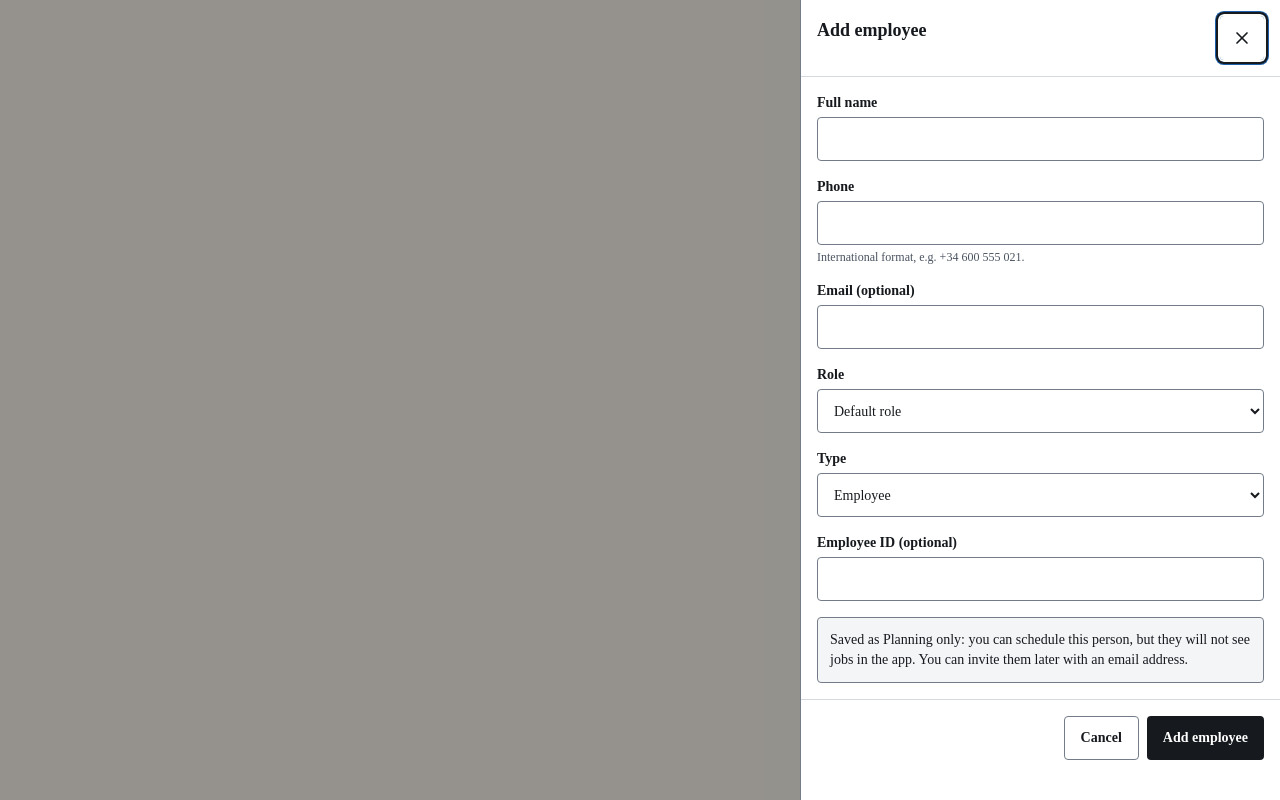
Scenario: Add / Edit employee drawer: every API field error lands on its field (c769b0c5) › a phone the API would refuse is refused before any request
In the field labelled "Full name": [1040, 139] box [817,117,1264,161], type "Ana Pop"
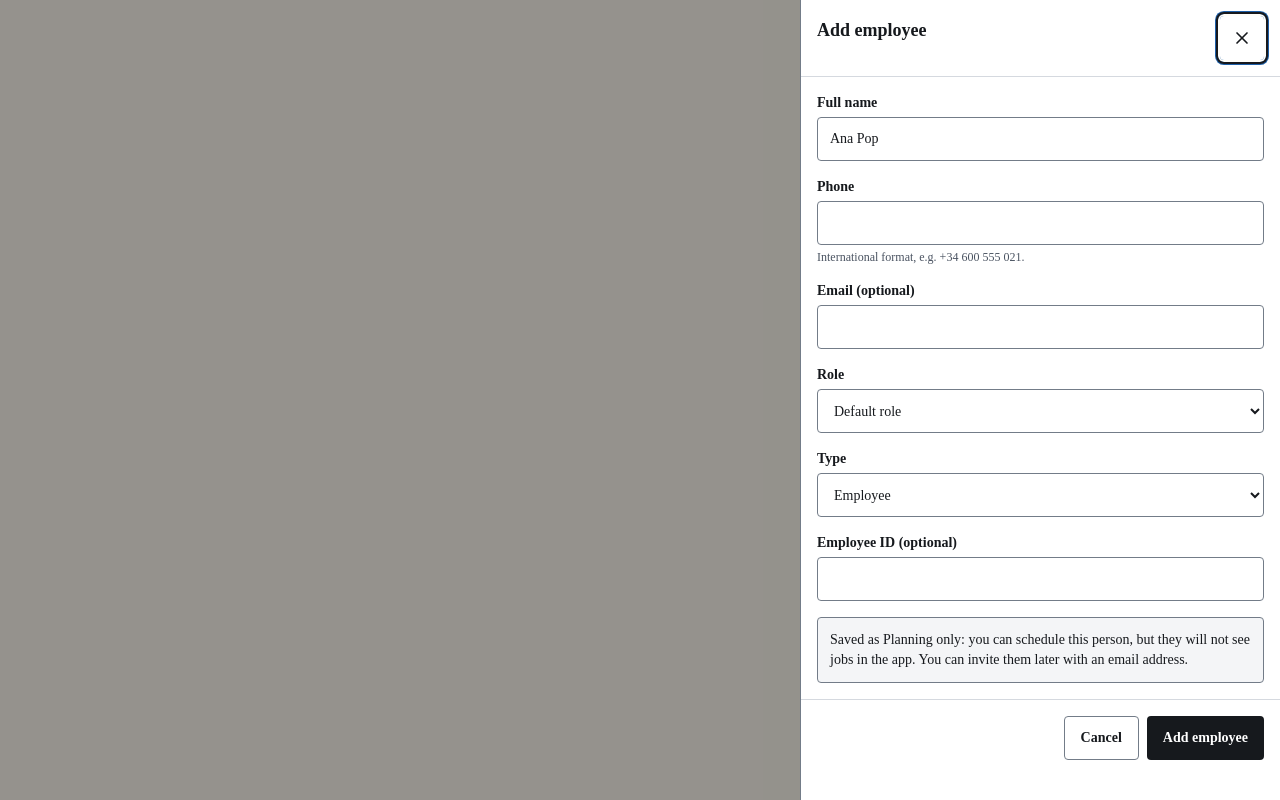
In the field labelled "Phone": [1040, 223] box [817,201,1264,245], type "600 555 021"
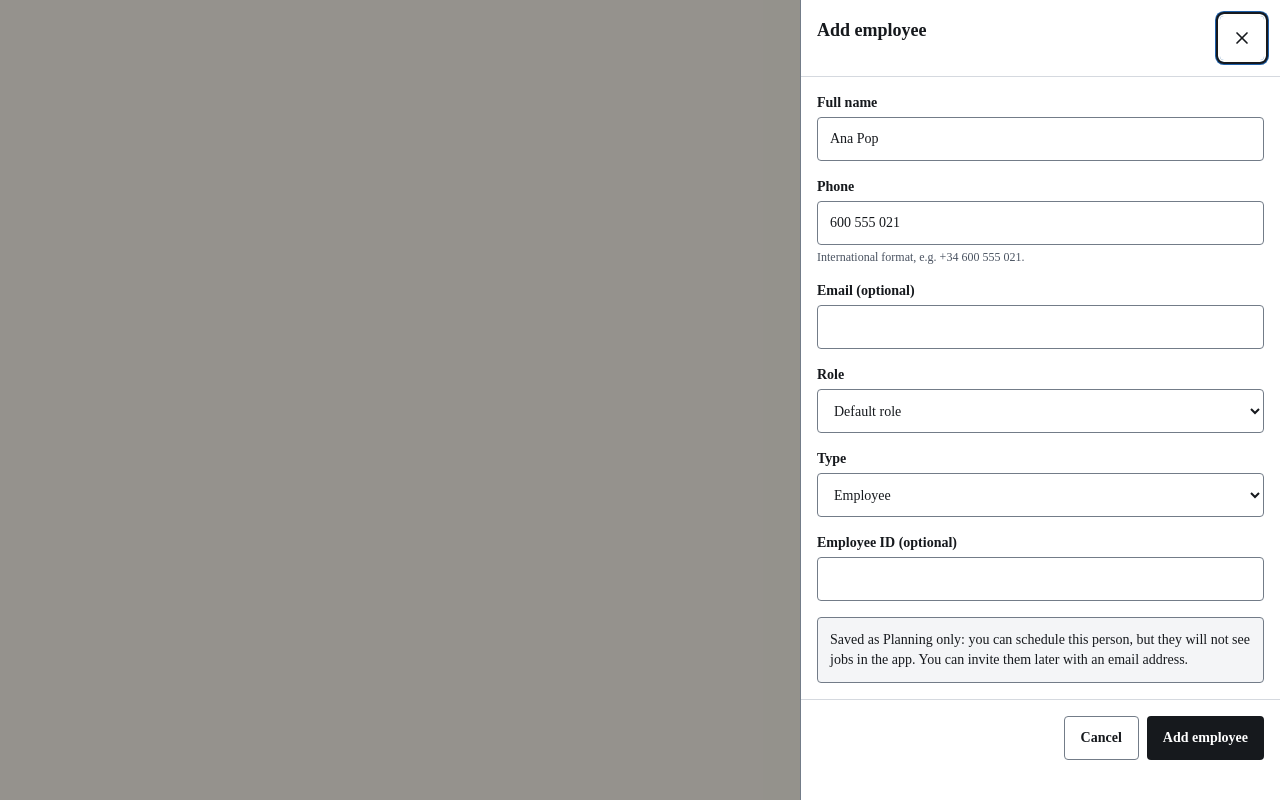
Click the button "Add employee": [1205, 738] box [1147,716,1264,760]
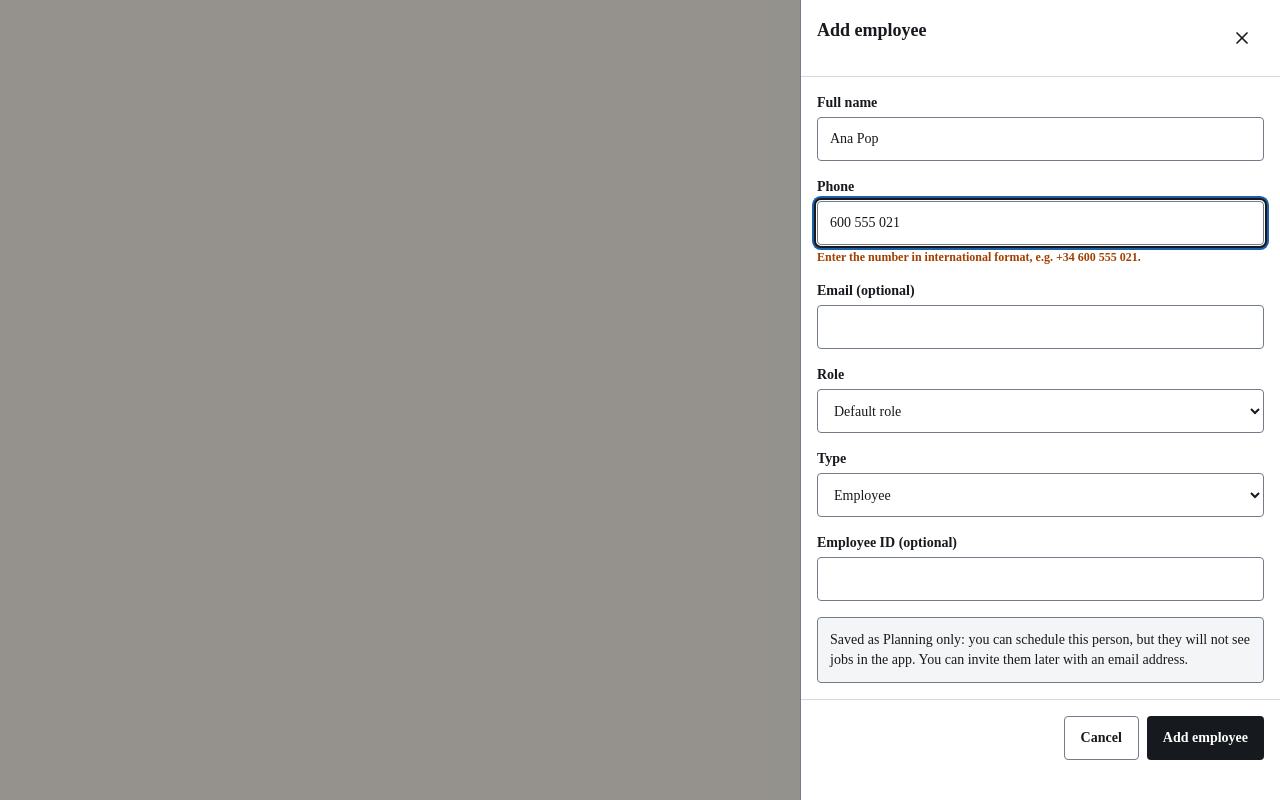
Now the text "Enter the number in international format, e.g. +34 600 555 021." is shown, box [817,250,1141,264]
